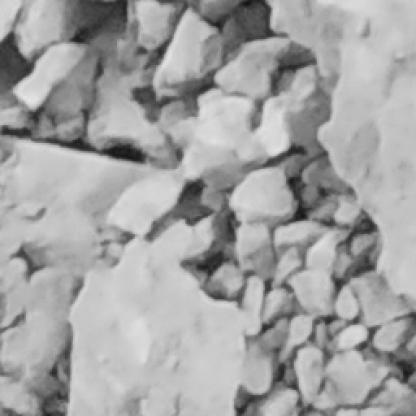cementitious_debris: (0, 0, 414, 414), (0, 366, 65, 414), (102, 238, 125, 260), (18, 199, 44, 218)
